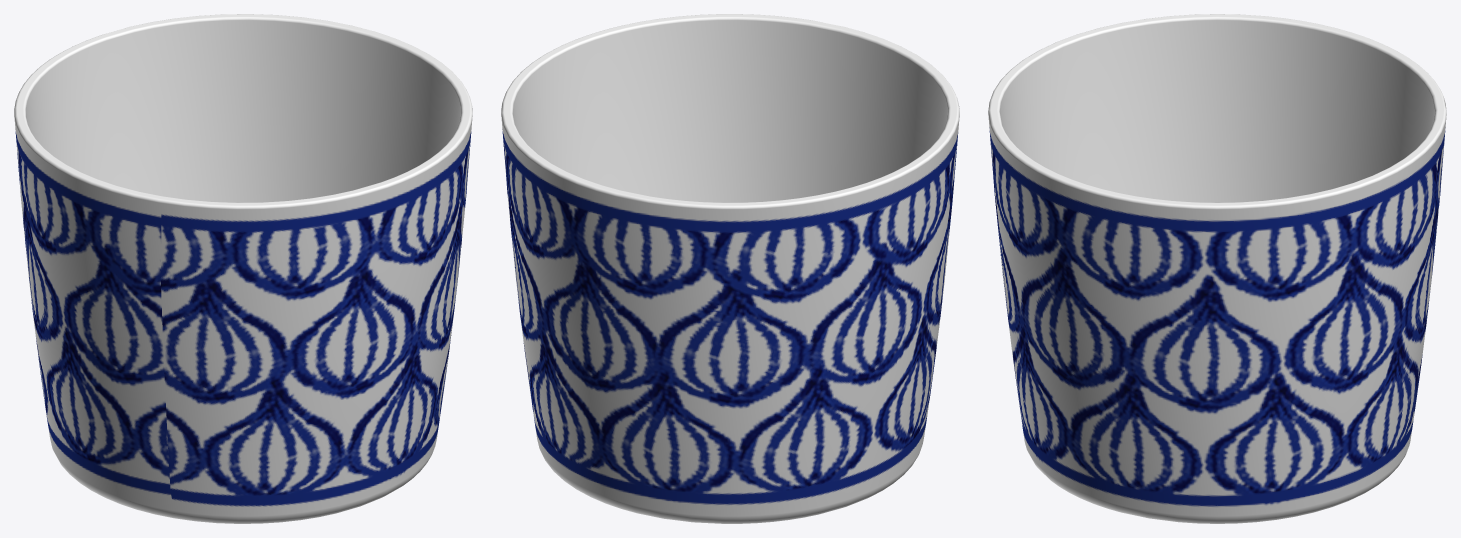
Rendered from 300_そばちょこ.glb.
3 renders of one model, left to right at view 1: azimuth 30°, elevation 25°; view 2: azimuth 150°, elevation 25°; view 3: azimuth 270°, elevation 25°, orthographic.
Visible parts, largest first — view 1: Body1; view 2: Body1; view 3: Body1.
Boxes of the visible parts, x1=… form: Body1: x1=14, y1=14, x2=472, y2=523; Body1: x1=501, y1=14, x2=959, y2=523; Body1: x1=988, y1=14, x2=1446, y2=523.
Bounding box in the file's own units: 0.0799 × 0.065 × 0.0799.
Materials: 2 (1 with a texture image).
